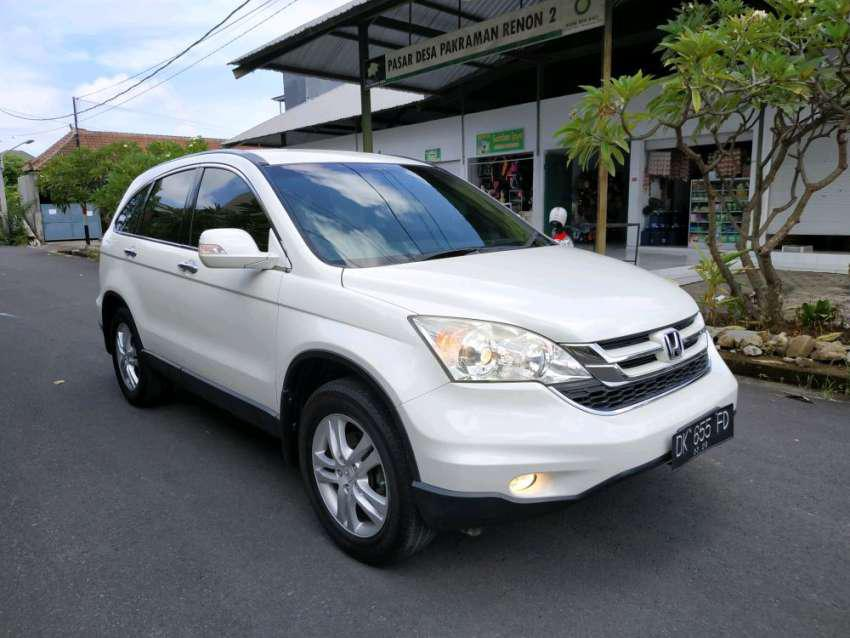plate: (673, 402, 734, 471)
